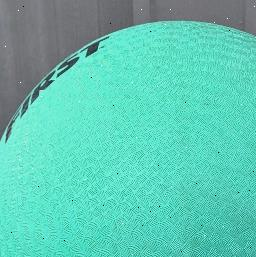algae: (0, 20, 256, 257)
